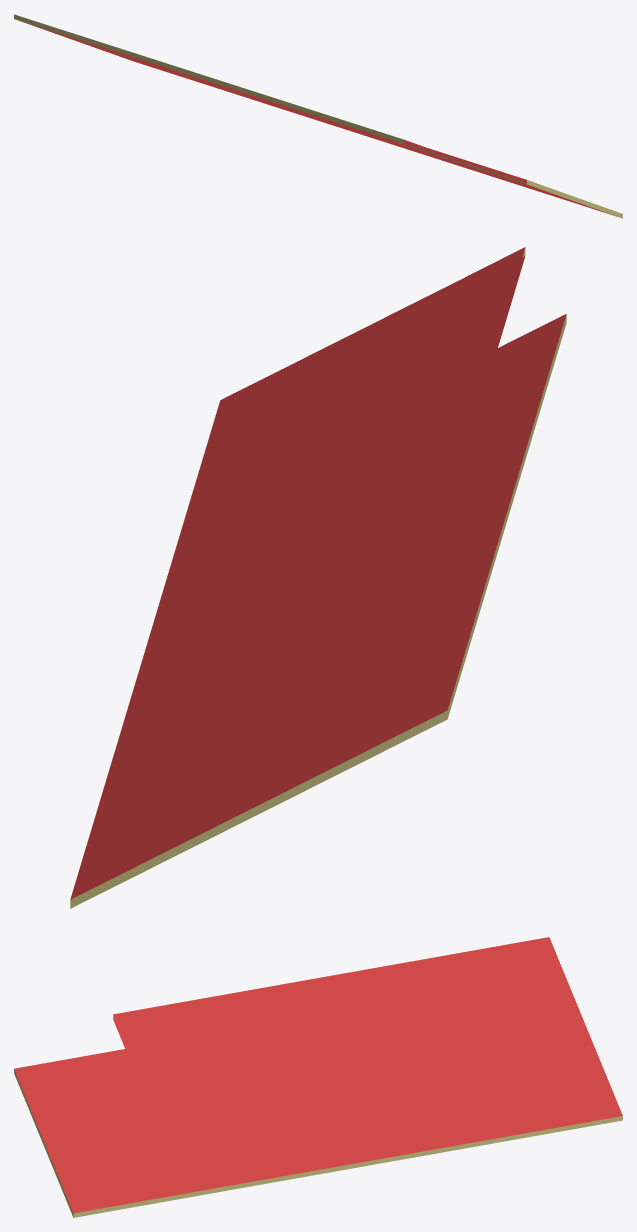
3 renders of one model, top to bottom at view 1: azimuth 30°, elevation 25°; view 2: azimuth 150°, elevation 25°; view 3: azimuth 270°, elevation 25°, orthographic. The views are drawn at different scales.
Size of the model in its own units: 8.15 by 12.22 by 2.42.
